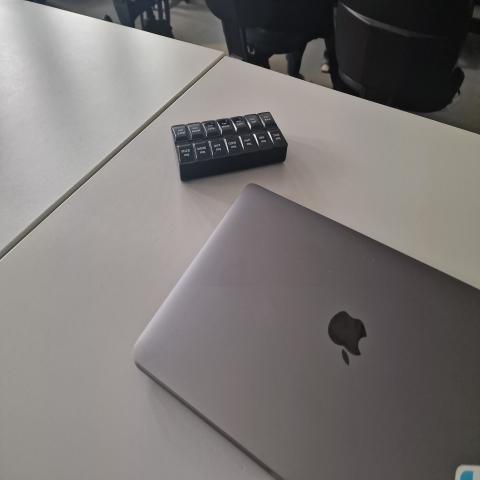Pill-box: (156, 90, 292, 186)
